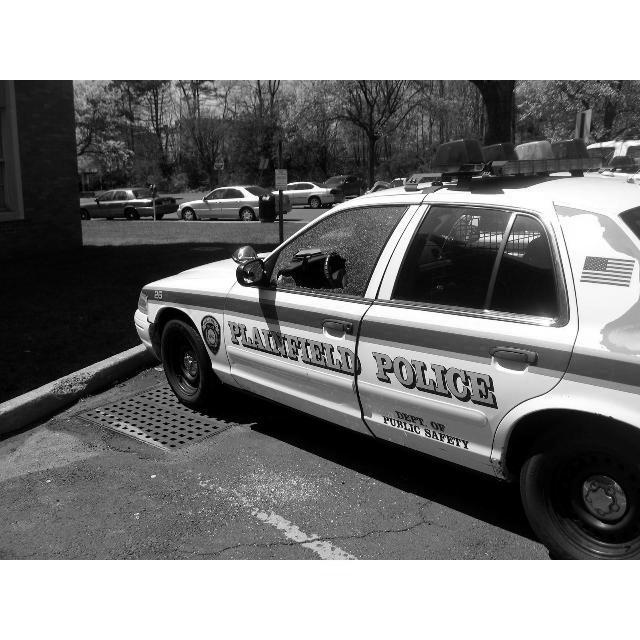doorouter-dent: (234, 225, 365, 402)
